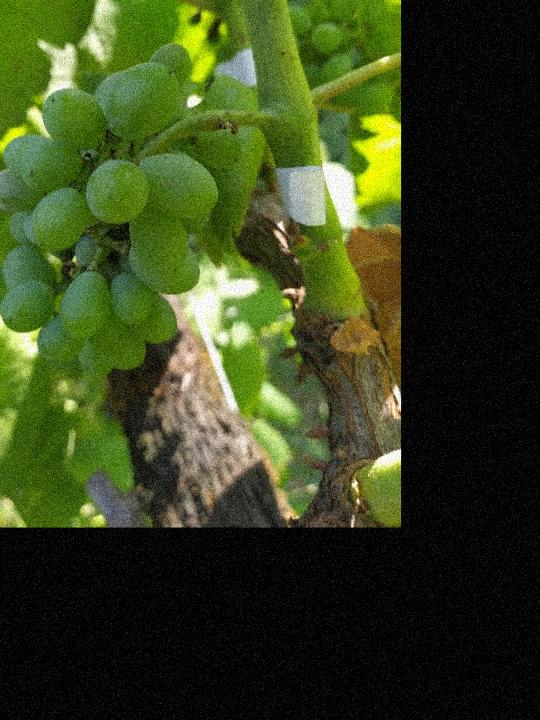grape: (0, 40, 239, 381)
